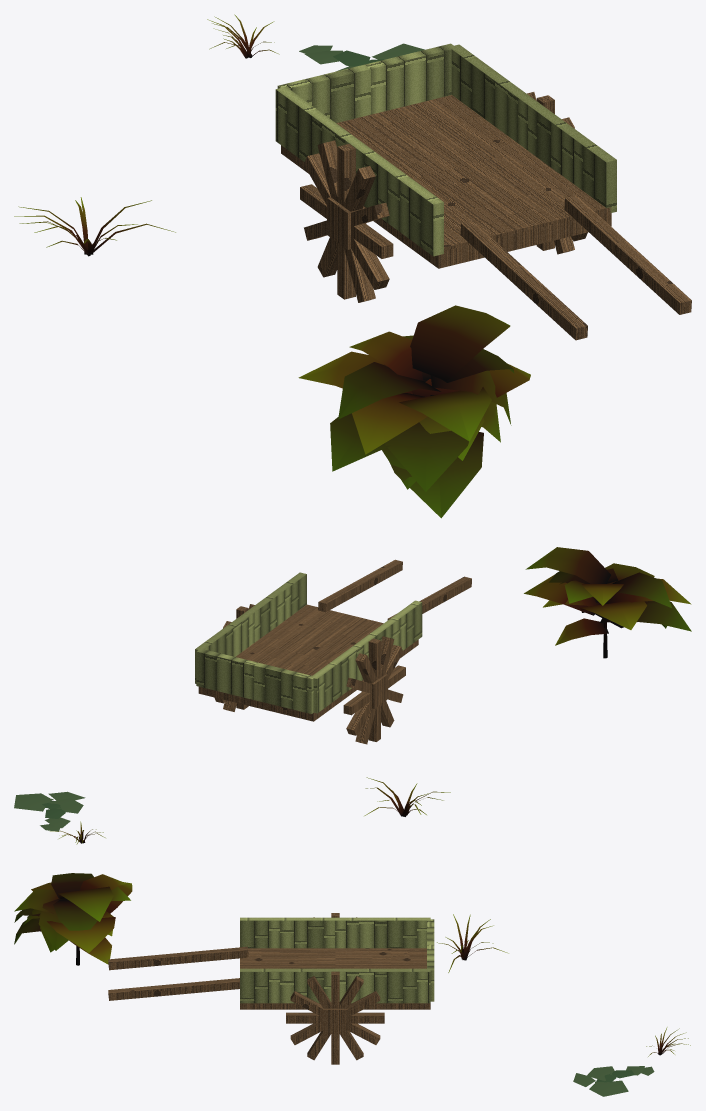
The model's file is ox_cart_01.glb.
3 renders of one model, top to bottom at view 1: azimuth 30°, elevation 25°; view 2: azimuth 150°, elevation 25°; view 3: azimuth 270°, elevation 25°, orthographic. The views are drawn at different scales.
Visible parts, largest first — view 1: ox_cart_01, ox_cart_01_veg_00_bush_c, ox_cart_01_veg_02_moss_a, ox_cart_01_veg_01_grass_tuft_c; view 2: ox_cart_01, ox_cart_01_veg_00_bush_c, ox_cart_01_veg_02_moss_a, ox_cart_01_veg_01_grass_tuft_c; view 3: ox_cart_01, ox_cart_01_veg_00_bush_c, ox_cart_01_veg_02_moss_a, ox_cart_01_veg_01_grass_tuft_c.
Boxes of the visible parts, x1,y1,x2,y2 form: ox_cart_01: (275,43,691,340); ox_cart_01_veg_00_bush_c: (298,305,530,518); ox_cart_01_veg_02_moss_a: (299,43,424,71); ox_cart_01_veg_01_grass_tuft_c: (14,197,175,256); ox_cart_01: (195,559,471,744); ox_cart_01_veg_00_bush_c: (524,547,691,658); ox_cart_01_veg_02_moss_a: (14,791,85,831); ox_cart_01_veg_01_grass_tuft_c: (364,777,450,816); ox_cart_01: (108,913,434,1064); ox_cart_01_veg_00_bush_c: (14,873,132,965); ox_cart_01_veg_02_moss_a: (573,1066,654,1096); ox_cart_01_veg_01_grass_tuft_c: (437,914,508,972).
Size of the model in its own units: 4.77 by 1.2 by 8.23.
6 materials, 6 textured.
